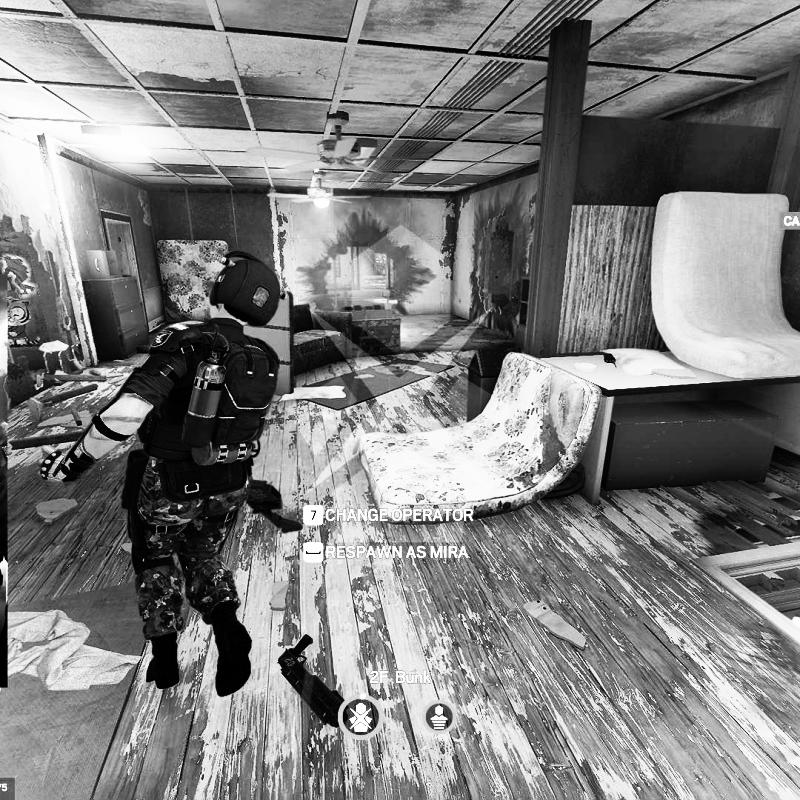Character: (38, 247, 285, 698)
Head: (208, 250, 282, 329)
